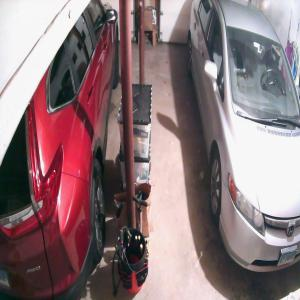honda civic: (186, 0, 299, 274)
honda crv: (0, 0, 118, 300)
tool bucket: (117, 226, 149, 294)
